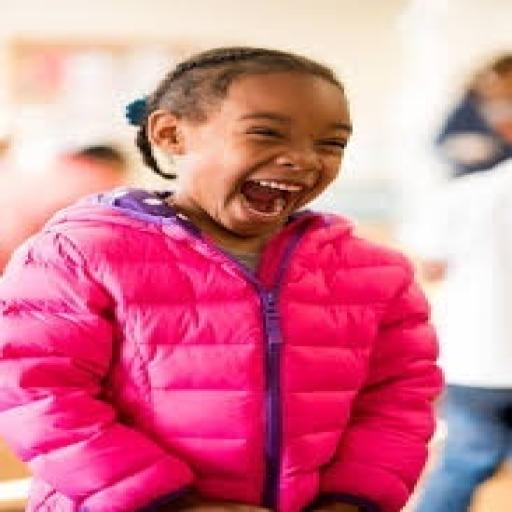laughing: (0, 41, 450, 510)
